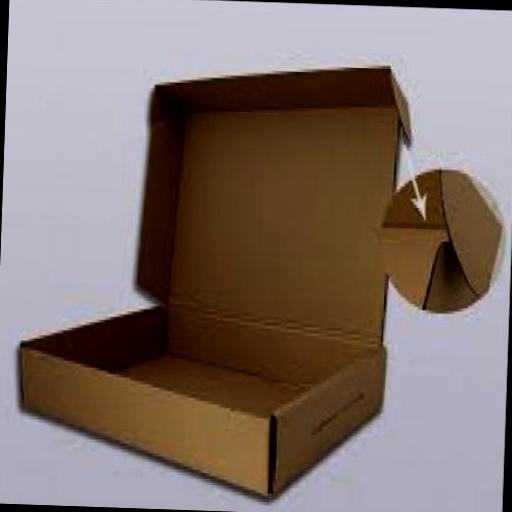cardboard: (16, 48, 418, 502), (382, 166, 505, 308)
